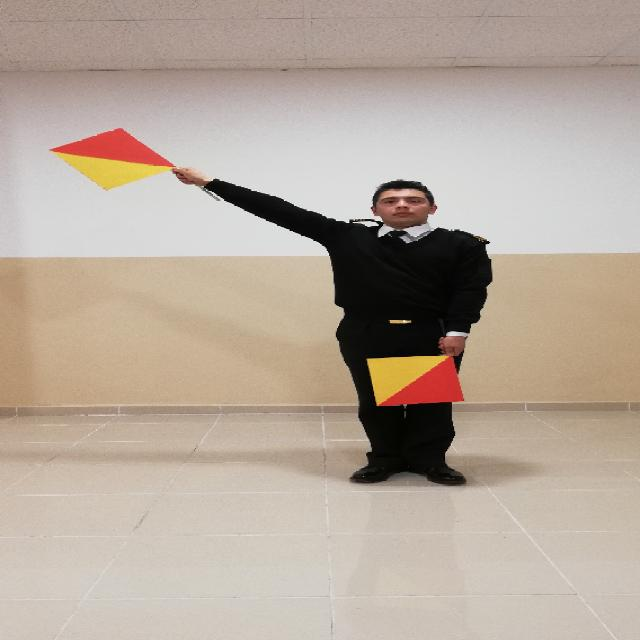C: (40, 116, 539, 503)
